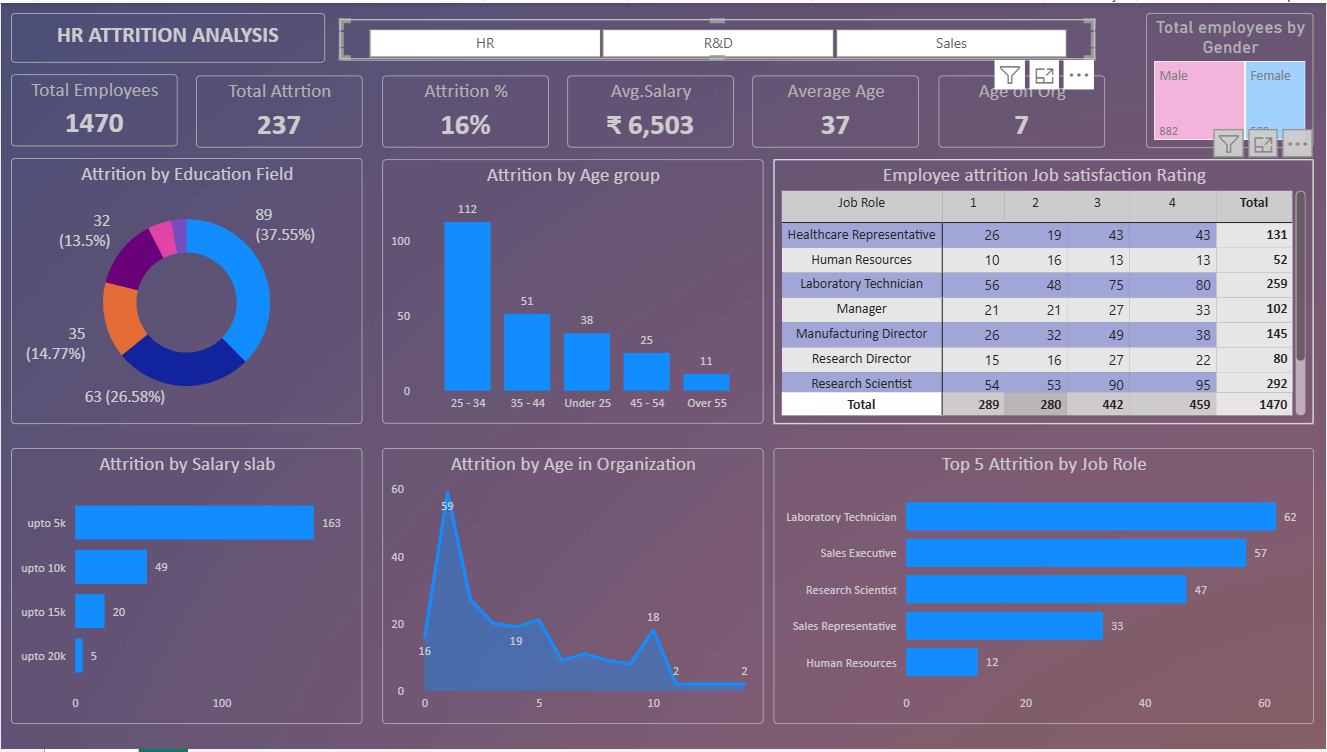

The page's visual inventory and layout, read from the dashboard file:
{"tool":"powerbi","page":{"name":"Page 1","canvas":[1280,720],"ordinal":0},"visuals":[{"type":"textbox","box":[9.6,9.6,303.3,48],"z":0},{"type":"card","title":"Total Employees","fields":{"Values":["Sheet1.Total employees"]},"box":[9.6,68.6,160.5,70],"z":1000},{"type":"card","title":"Total Attrtion","fields":{"Values":["Sheet1.Total Attrition"]},"box":[188.5,70,160.5,70],"z":2000},{"type":"card","title":"Attrition %","fields":{"Values":["Sheet1.Attriton%"]},"box":[367.5,70,160.5,70],"z":3000},{"type":"card","title":"Avg.Salary","fields":{"Values":["Sheet1.Avg.Salary"]},"box":[546.4,70,160.5,70],"z":4000},{"type":"card","title":"Average Age","fields":{"Values":["Sheet1.Average Age"]},"box":[725.4,70,160.5,70],"z":5000},{"type":"card","title":"Age on Org","fields":{"Values":["Sheet1.age on organization"]},"box":[904.3,70,160.5,70],"z":6000},{"type":"treemap","fields":{"Group":["Sheet1.Gender"],"Values":["Sheet1.Total employees"]},"box":[1104.6,9.6,161.9,130.4],"z":7000},{"type":"slicer","fields":{"Values":["Sheet1.Department"]},"box":[326.6,15.1,728.6,39.8],"z":8000},{"type":"donutChart","title":" Attrition by Education Field","fields":{"Category":["Sheet1.Education Field"],"Y":["Sheet1.Total Attrition"]},"box":[9.6,149.6,338.9,256.6],"z":9000},{"type":"clusteredColumnChart","title":" Attrition by Age group","fields":{"Category":["Sheet1.CF_age band"],"Y":["Sheet1.Total Attrition"]},"box":[367.8,150.9,367.8,255.2],"z":10000},{"type":"clusteredBarChart","title":" Attrition by Salary slab","fields":{"Y":["Sheet1.Total Attrition"],"Category":["Sheet1.salary slab"]},"box":[9.6,429.5,338.9,266.2],"z":11000},{"type":"areaChart","title":" Attrition by Age in Organization","fields":{"Category":["Sheet1.Years At Company"],"Y":["Sheet1.Total Attrition"]},"box":[367.8,429.5,367.8,266.2],"z":12000},{"type":"clusteredBarChart","title":" Top 5 Attrition by Job Role","fields":{"Y":["Sheet1.Total Attrition"],"Category":["Sheet1.Job Role"]},"box":[745.1,429.5,521.4,266.2],"z":13000},{"type":"pivotTable","title":"Employee attrition Job satisfaction Rating","fields":{"Columns":["Sheet1.Job Satisfaction"],"Rows":["Sheet1.Job Role"],"Values":["CountNonNull(Sheet1.Job Role)"]},"box":[745.1,150.9,521.4,255.2],"z":15000}]}

Visuals, with their boxes in screenshot pixels (x1, y1, x2, y2), scaled from the page's 1280x720 canvas onto the 1327x752 screenshot:
textbox: bbox=[10, 10, 324, 60]
"Total Employees" card: bbox=[10, 72, 176, 145]
"Total Attrtion" card: bbox=[195, 73, 362, 146]
"Attrition %" card: bbox=[381, 73, 547, 146]
"Avg.Salary" card: bbox=[566, 73, 733, 146]
"Average Age" card: bbox=[752, 73, 918, 146]
"Age on Org" card: bbox=[938, 73, 1104, 146]
treemap - Sheet1.Gender x Sheet1.Total employees: bbox=[1145, 10, 1313, 146]
slicer - Sheet1.Department: bbox=[339, 16, 1094, 57]
" Attrition by Education Field" donutChart: bbox=[10, 156, 361, 424]
" Attrition by Age group" clusteredColumnChart: bbox=[381, 158, 763, 424]
" Attrition by Salary slab" clusteredBarChart: bbox=[10, 449, 361, 727]
" Attrition by Age in Organization" areaChart: bbox=[381, 449, 763, 727]
" Top 5 Attrition by Job Role" clusteredBarChart: bbox=[772, 449, 1313, 727]
"Employee attrition Job satisfaction Rating" pivotTable: bbox=[772, 158, 1313, 424]
